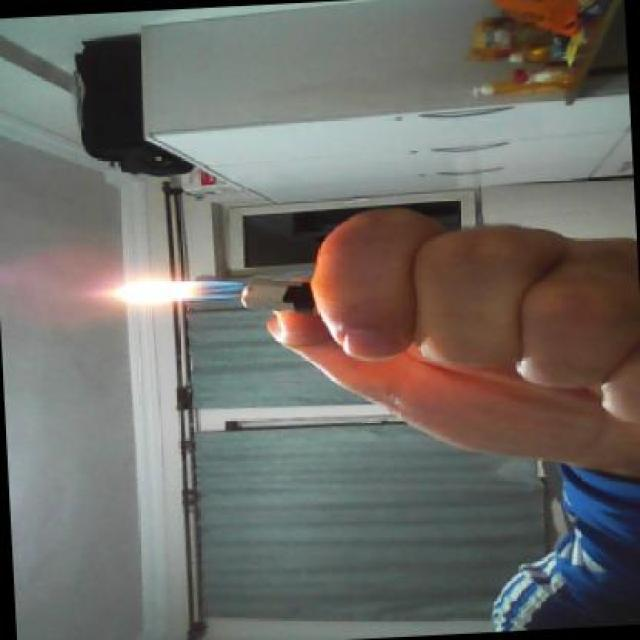Fire: (106, 273, 246, 316)
